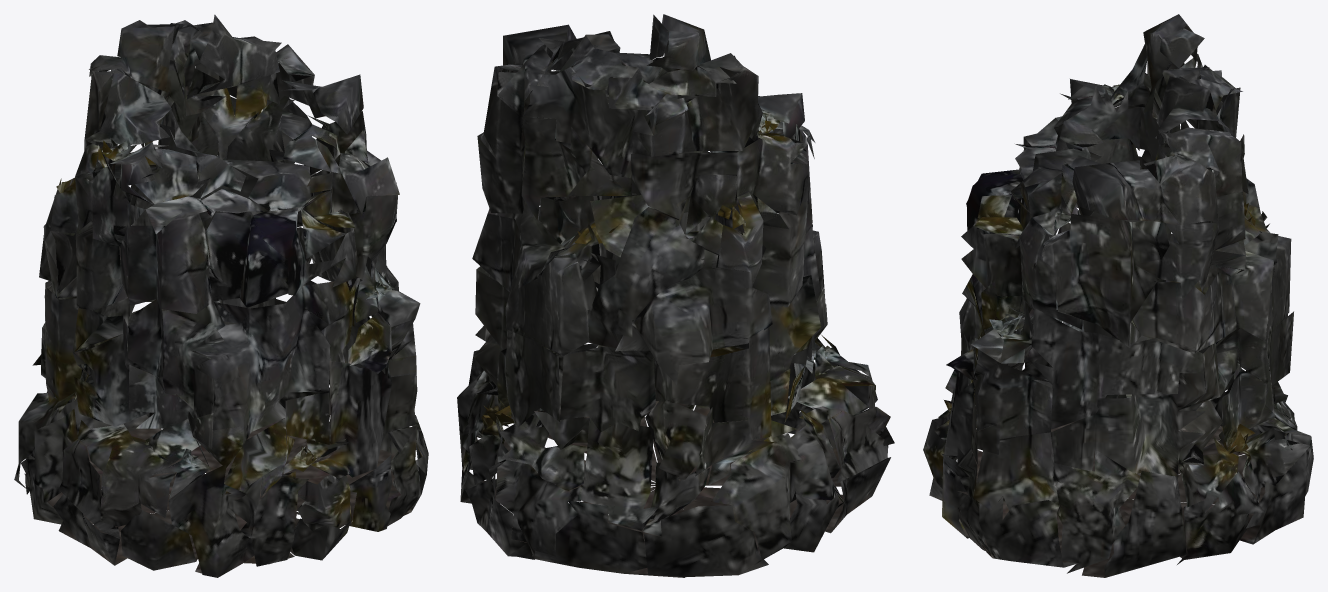
File: spire_basalt.glb
The picture shows the model from 3 angles, left to right: view 1: azimuth 30°, elevation 25°; view 2: azimuth 150°, elevation 25°; view 3: azimuth 270°, elevation 25°; orthographic projection. The views are drawn at different scales.
Parts seen in each view (by area): view 1: spire_basalt_p2; view 2: spire_basalt_p2; view 3: spire_basalt_p2.
Part boxes in pixels (x1,y1,x2,y2): spire_basalt_p2: (14,14,428,577); spire_basalt_p2: (457,14,894,577); spire_basalt_p2: (923,14,1313,577).
Size of the model in its own units: 0.9277 by 1.16 by 0.9065.
Materials: 1 (1 with a texture image).
